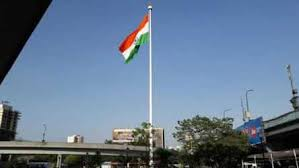Flag: (117, 14, 149, 64)
